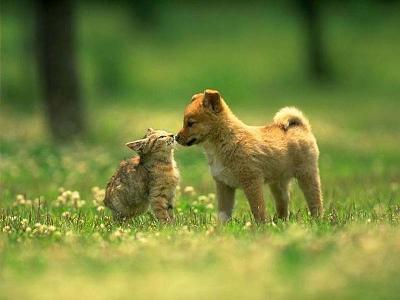cat: (103, 129, 195, 221)
dog: (169, 91, 329, 251)
